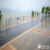others: (1, 18, 50, 50)
